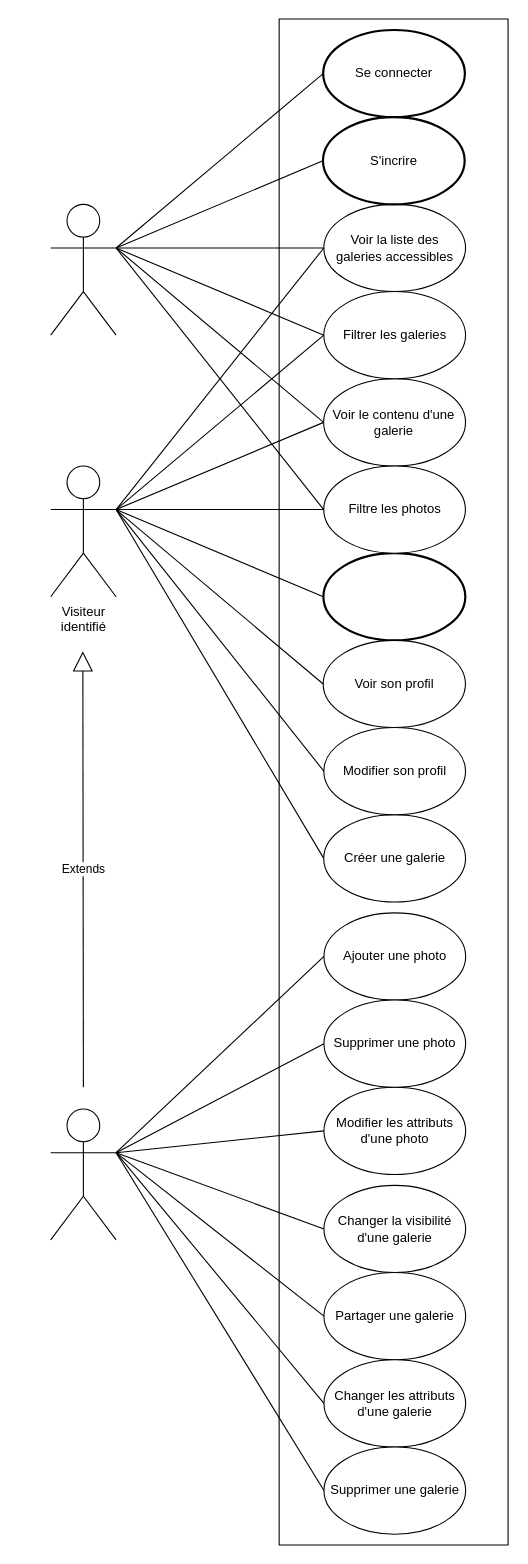
This 528x1564 diagram has some shape labels left out. The box of each missing label's shape, as (x1, y1, x2, y2) in pixels:
Propriétaire de galerie: (50, 1108, 116, 1240)
Se déconnecter: (322, 552, 466, 641)
Visiteur non-identifié: (50, 203, 116, 335)
